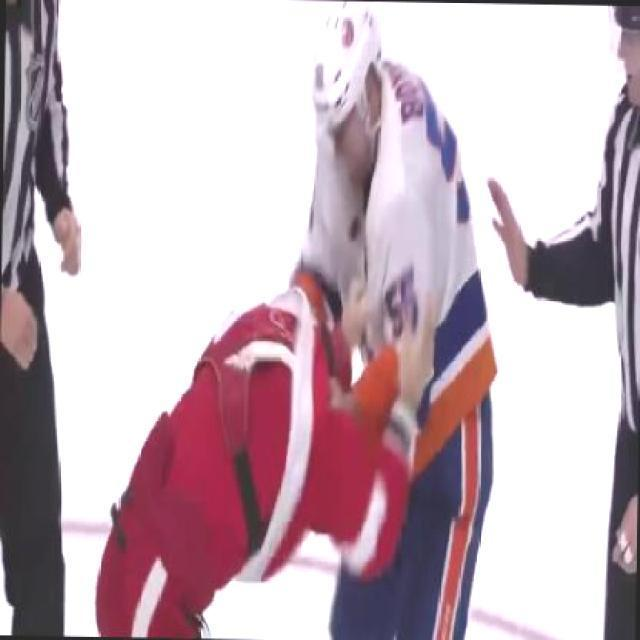fight: (99, 0, 504, 528)
